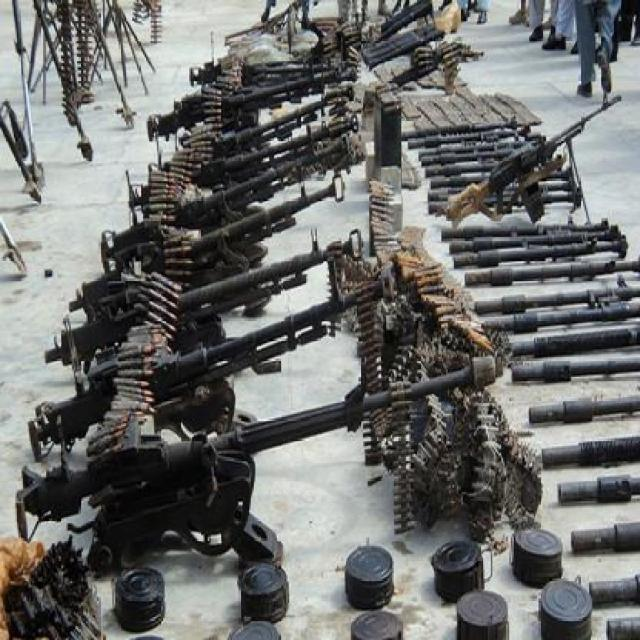weapon: (439, 88, 623, 238)
